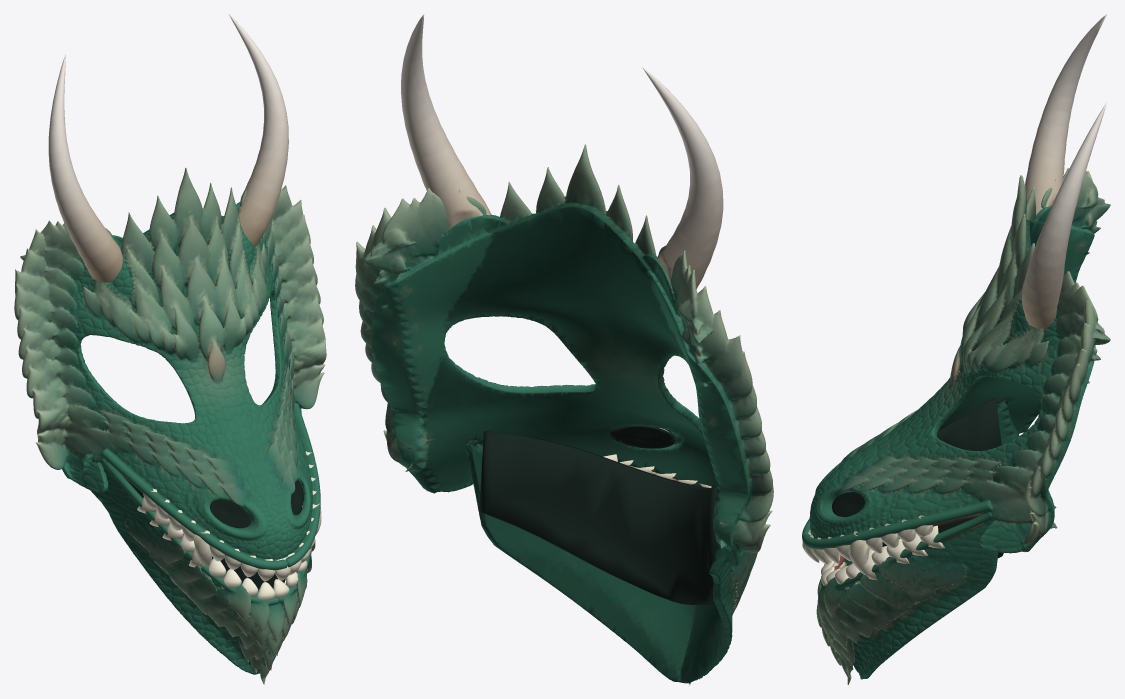
The model's file is dragon-mask.glb.
3 renders of one model, left to right at view 1: azimuth 30°, elevation 25°; view 2: azimuth 150°, elevation 25°; view 3: azimuth 270°, elevation 25°, orthographic. The views are drawn at different scales.
Visible parts, largest first — view 1: DragonMaskSculpt, DragonJawSculpt, Swept ivory horn, Swept ivory horn.001, Recessed nostril shadow; view 2: DragonMaskSculpt, Dark mouth lining, DragonJawSculpt, Swept ivory horn.001, Swept ivory horn, Recessed nostril shadow.001; view 3: DragonMaskSculpt, DragonJawSculpt, Swept ivory horn.001, Swept ivory horn, Dark mouth lining, Recessed nostril shadow.001, UpperTooth_14.
Part boxes in pixels (x1,y1,x2,y2): DragonMaskSculpt: (14, 167, 326, 570); DragonJawSculpt: (80, 453, 315, 684); Swept ivory horn: (48, 54, 122, 282); Swept ivory horn.001: (228, 14, 288, 246); Recessed nostril shadow: (210, 499, 250, 528); DragonMaskSculpt: (355, 144, 773, 566); Dark mouth lining: (479, 431, 717, 604); DragonJawSculpt: (467, 443, 757, 684); Swept ivory horn.001: (401, 14, 491, 228); Swept ivory horn: (642, 67, 723, 288); Recessed nostril shadow.001: (610, 425, 674, 448); DragonMaskSculpt: (802, 168, 1110, 553); DragonJawSculpt: (816, 402, 1019, 684); Swept ivory horn.001: (1022, 102, 1106, 329); Swept ivory horn: (1025, 14, 1106, 214); Dark mouth lining: (882, 398, 1003, 558); Recessed nostril shadow.001: (832, 492, 864, 516); UpperTooth_14: (848, 531, 869, 572).
Size of the model in its own units: 1.81 by 3.27 by 1.46.
